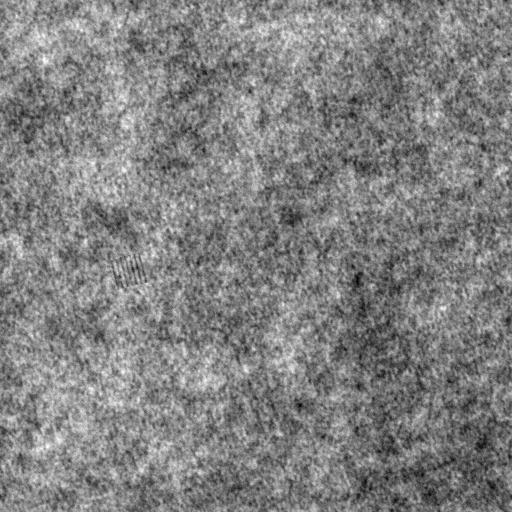DefectTypeB: (113, 253, 149, 289)
